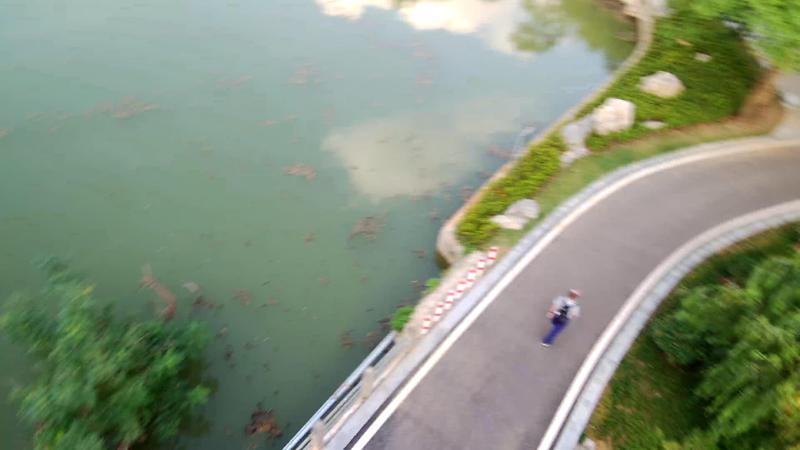passerby: (539, 282, 584, 349)
